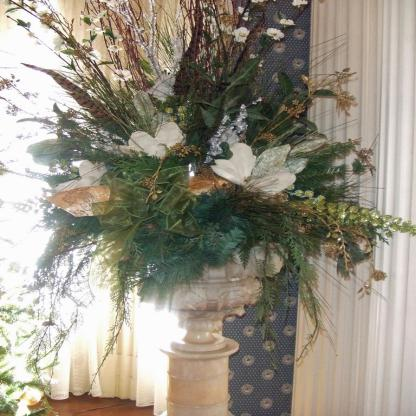vase: (145, 248, 262, 416)
